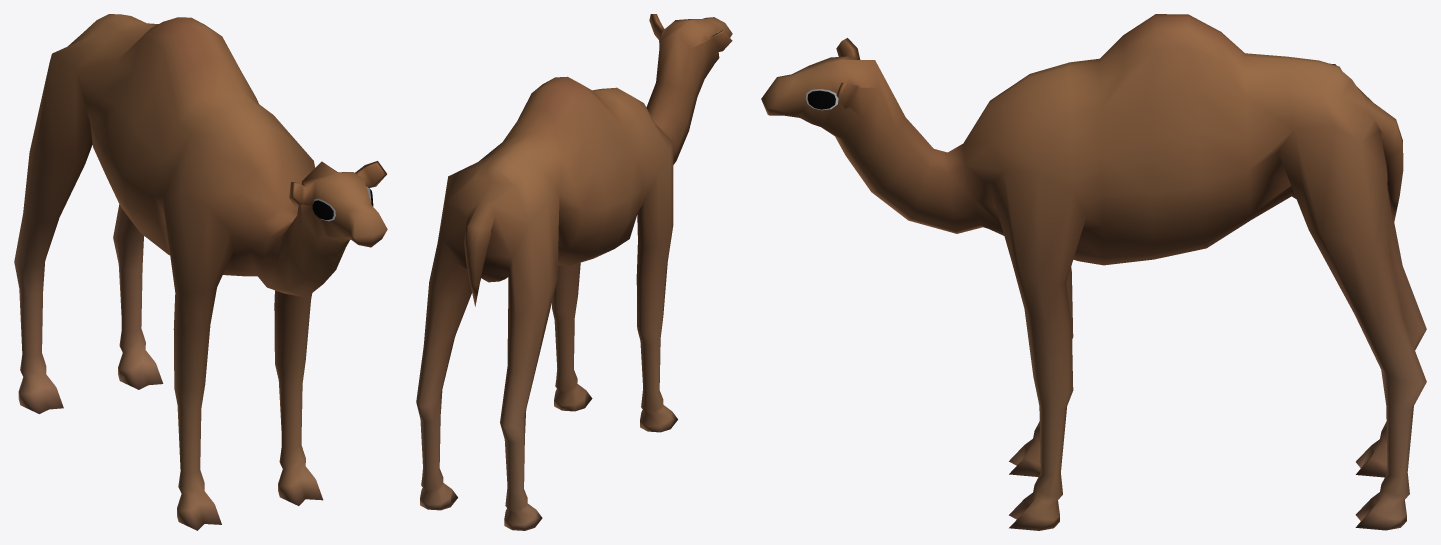
File: animals-animals-camel_v1.glb
3 renders of one model, left to right at view 1: azimuth 30°, elevation 25°; view 2: azimuth 150°, elevation 25°; view 3: azimuth 270°, elevation 25°, orthographic. The views are drawn at different scales.
Visible parts, largest first — view 1: Camel.001; view 2: Camel.001; view 3: Camel.001.
Boxes of the visible parts, <box> form: Camel.001: <box>14,14,387,530</box>; Camel.001: <box>416,14,732,530</box>; Camel.001: <box>761,14,1426,530</box>.
Size of the model in its own units: 0.942 by 2.75 by 3.47.
